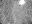person: (18, 1, 24, 9)
